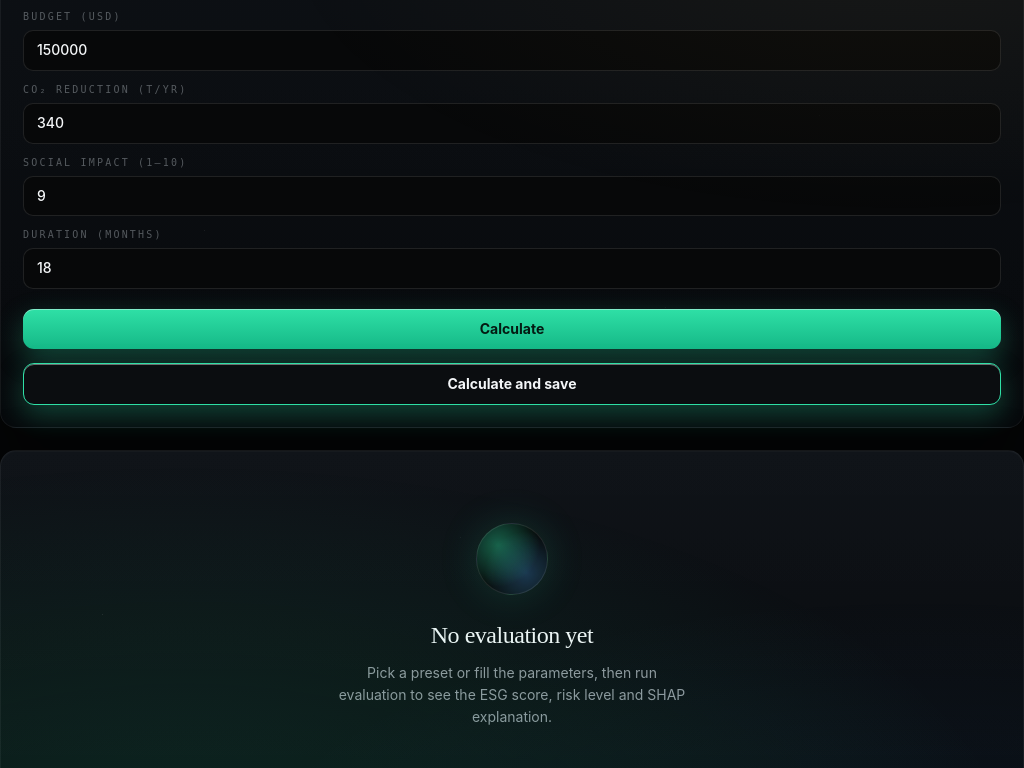
Scenario: a save that is not confirmed is not shown as one › a 403 says the role, not a failure to check
(page scrolled)
Click the button "Calculate and save".
click(512, 384)  # box [23,363,1001,405]
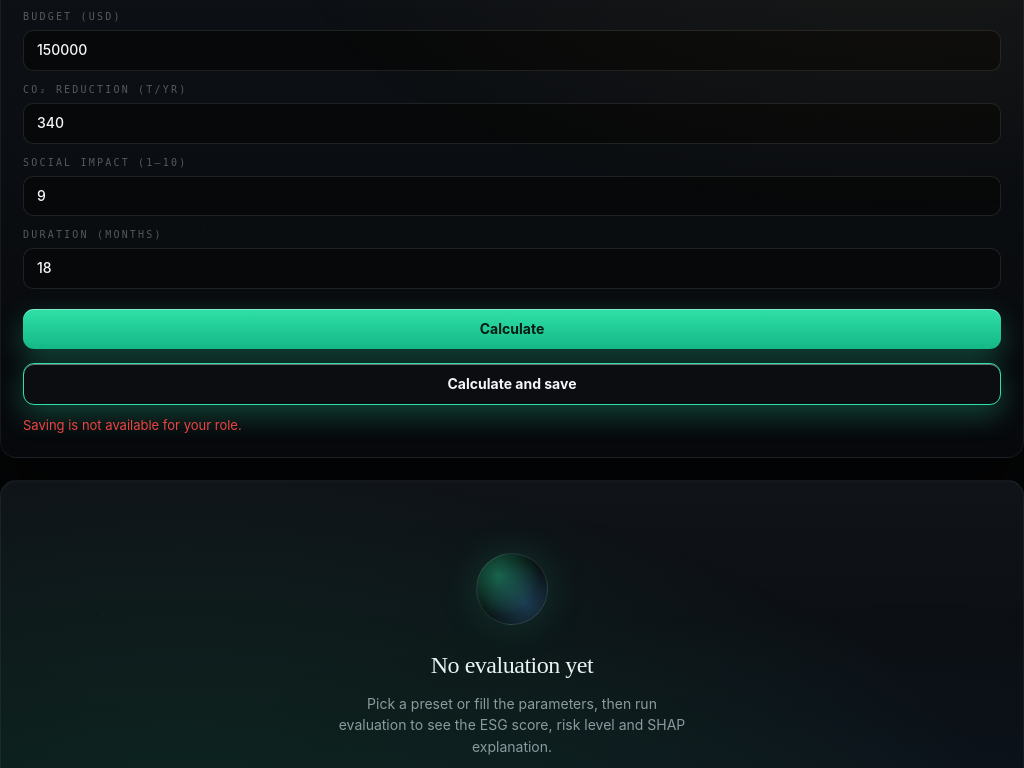
Expected: the message shows "Saving is not available for your role", [23,417,242,433]
